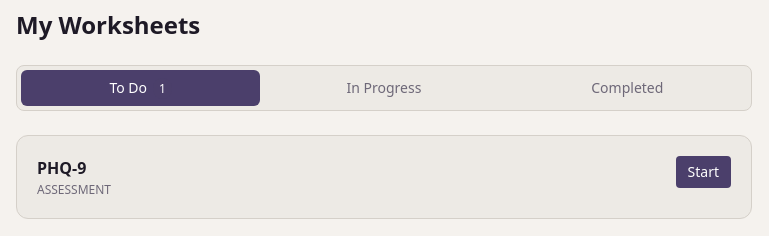
Client dashboard — assigned worksheets › shows empty state message when a tab has no assignments
Click the tab "In Progress": (384, 88) 264,70 -> 504,106
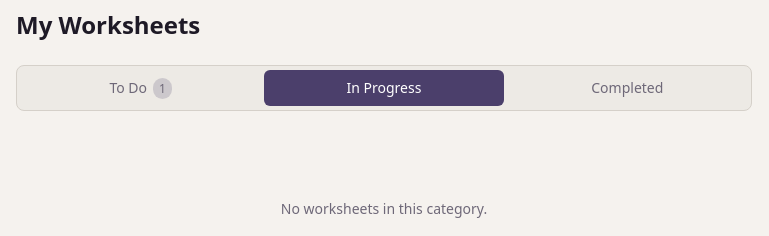
Now the text "No worksheets in this category." is shown, box 281,199 -> 487,218
